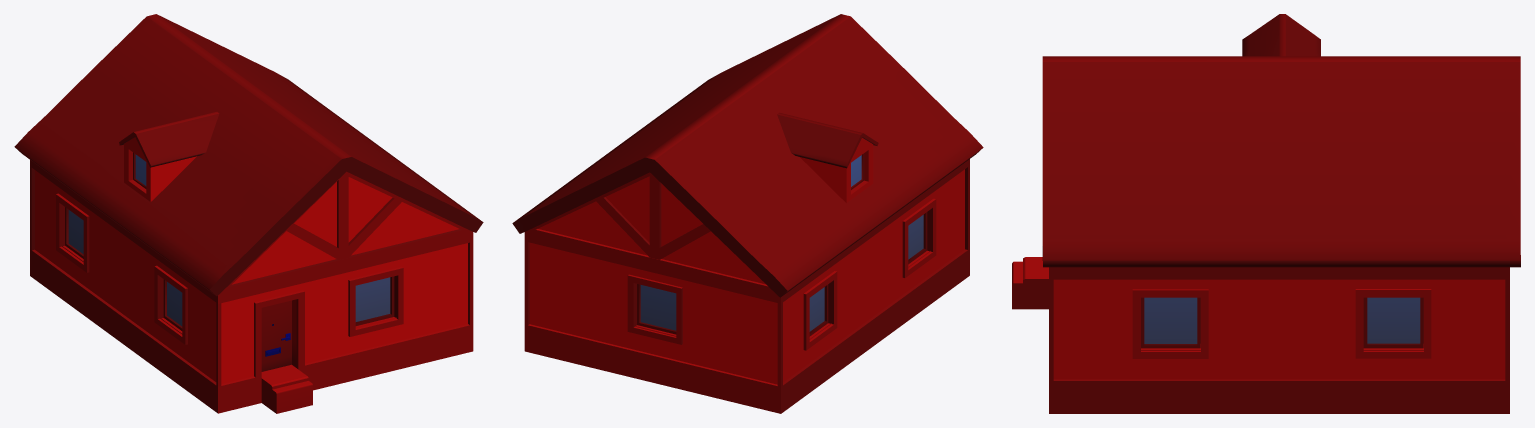
File: buildings-residential-familyhome_v2.fbx
3 views of the same model, side by side, from view 1: azimuth 30°, elevation 25°; view 2: azimuth 150°, elevation 25°; view 3: azimuth 270°, elevation 25° (orthographic). The views are drawn at different scales.
Parts seen in each view (by area): view 1: FamilyHome_v2_base, FamilyHome_v2_windowRefl; view 2: FamilyHome_v2_base, FamilyHome_v2_windowRefl; view 3: FamilyHome_v2_base, FamilyHome_v2_windowRefl.
Boxes of the visible parts, x1,y1,x2,y2 form: FamilyHome_v2_base: (14, 14, 483, 413); FamilyHome_v2_windowRefl: (68, 154, 390, 326); FamilyHome_v2_base: (512, 14, 983, 413); FamilyHome_v2_windowRefl: (640, 155, 923, 331); FamilyHome_v2_base: (1012, 14, 1520, 413); FamilyHome_v2_windowRefl: (1144, 297, 1420, 343).
Bounding box in the file's own units: 9.62 × 7.6 × 12.62.
